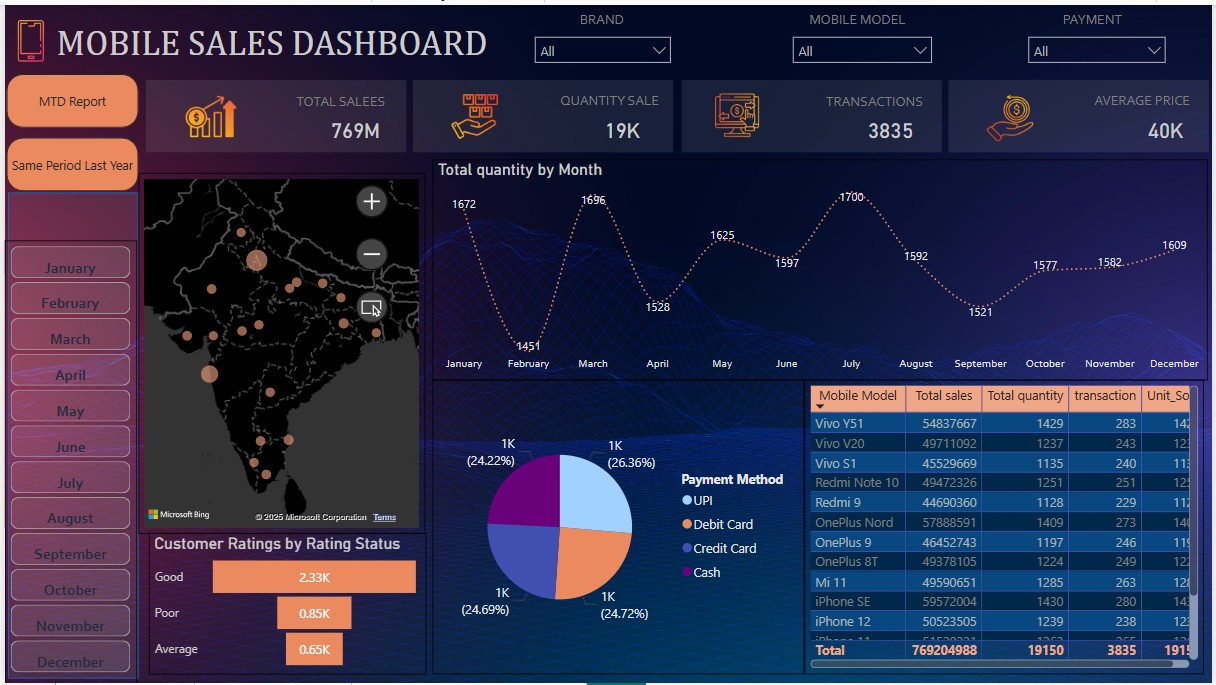

Layout of this report page (visuals, bound fields, positions):
{"tool":"powerbi","page":{"name":"Summary","canvas":[1280,720],"ordinal":0},"visuals":[{"type":"shape","box":[3.2,198.8,138.4,515.4],"z":1000},{"type":"advancedSlicerVisual","fields":{"Values":["Custom_Calendar.Date.Variation.Date Hierarchy.Month"]},"box":[0,249.7,140,470.8],"z":2000},{"type":"textbox","box":[14.3,12.7,537.6,58.9],"z":3000},{"type":"shape","box":[149.9,79,276,77],"z":4000},{"type":"shape","box":[433.4,79,276,77],"z":5000},{"type":"shape","box":[717,79,276,77],"z":6000},{"type":"shape","box":[1000.5,79,276,77],"z":7000},{"type":"card","fields":{"Values":["Sales_Data.Revenue"]},"box":[287.5,101.2,166.2,61.2],"z":8000},{"type":"card","fields":{"Values":["Sales_Data.Total quantity"]},"box":[571.2,101.2,166.2,61.2],"z":9000},{"type":"card","fields":{"Values":["Sales_Data.average price"]},"box":[1180,101.2,100,61.2],"z":10000},{"type":"card","fields":{"Values":["Sales_Data.transaction"]},"box":[855,102.5,166.2,61.2],"z":11000},{"type":"textbox","box":[304.3,87.1,148.6,64.3],"z":12000},{"type":"textbox","box":[865.7,87.1,147.1,62.9],"z":13000},{"type":"textbox","box":[584.3,85.7,124.3,62.9],"z":14000},{"type":"image","box":[186,86,64,64],"z":15000},{"type":"image","box":[445,87.5,105,61.2],"z":16000},{"type":"image","box":[746.2,81.2,60,71.2],"z":17000},{"type":"image","box":[1035,88.3,60,61.7],"z":18000},{"type":"textbox","box":[1150,86,126,62],"z":19000},{"type":"textbox","box":[847.8,0,122.5,30.2],"z":20000},{"type":"textbox","box":[604.4,0,70,30.2],"z":21000},{"type":"slicer","fields":{"Values":["Sales_Data.Mobile Model"]},"box":[825.5,23.9,167,47.7],"z":22000},{"type":"slicer","fields":{"Values":["Sales_Data.Payment Method"]},"box":[1075.3,23.9,165.4,47.7],"z":23000},{"type":"slicer","fields":{"Values":["Sales_Data.Brand"]},"box":[551.9,23.9,163.8,50.9],"z":24000},{"type":"textbox","box":[1116.6,0,82.7,30.2],"z":25000},{"type":"image","box":[0,0,54.1,76.3],"z":26000},{"type":"map","title":"Sales by City","fields":{"Category":["Sales_Data.City"],"Size":["Sales_Data.Total sales"]},"box":[141.8,178.2,303.8,382.8],"z":28000},{"type":"lineChart","fields":{"Category":["Custom_Calendar.Date.Variation.Date Hierarchy.Month","Custom_Calendar.Date.Variation.Date Hierarchy.Day"],"Y":["Sales_Data.Total quantity"]},"box":[454,164,822,234],"z":29000},{"type":"funnel","title":"Customer Ratings by Rating Status","fields":{"Y":["CountNonNull(Sales_Data.Customer Ratings)"],"Category":["Sales_Data.Rating Status"]},"box":[152,560,294,150],"z":30000},{"type":"pieChart","fields":{"Category":["Sales_Data.Payment Method"],"Y":["Sales_Data.transaction"]},"box":[454,398,394,312],"z":31000},{"type":"tableEx","fields":{"Values":["Sales_Data.Mobile Model","Sales_Data.Total sales","Sales_Data.Total quantity","Sales_Data.transaction","Sales_Data.Unit_Sold"]},"box":[848.3,398.3,423.3,311.7],"z":32000},{"type":"pageNavigator","box":[1.7,73.3,140,125],"z":33000}]}

Visuals, with their boxes in screenshot pixels (x1, y1, x2, y2), scaled from the page's 1280x720 canvas onto the 1216x685 screenshot:
shape: bbox=(3, 189, 135, 679)
advancedSlicerVisual - Custom_Calendar.Date.Variation.Date Hierarchy.Month: bbox=(0, 238, 133, 684)
textbox: bbox=(14, 12, 524, 68)
shape: bbox=(142, 75, 405, 148)
shape: bbox=(412, 75, 674, 148)
shape: bbox=(681, 75, 943, 148)
shape: bbox=(950, 75, 1213, 148)
card - Sales_Data.Revenue: bbox=(273, 96, 431, 155)
card - Sales_Data.Total quantity: bbox=(543, 96, 701, 155)
card - Sales_Data.average price: bbox=(1121, 96, 1215, 155)
card - Sales_Data.transaction: bbox=(812, 98, 970, 156)
textbox: bbox=(289, 83, 430, 144)
textbox: bbox=(822, 83, 962, 143)
textbox: bbox=(555, 82, 673, 141)
image: bbox=(177, 82, 238, 143)
image: bbox=(423, 83, 522, 141)
image: bbox=(709, 77, 766, 145)
image: bbox=(983, 84, 1040, 143)
textbox: bbox=(1092, 82, 1212, 141)
textbox: bbox=(805, 0, 922, 29)
textbox: bbox=(574, 0, 641, 29)
slicer - Sales_Data.Mobile Model: bbox=(784, 23, 943, 68)
slicer - Sales_Data.Payment Method: bbox=(1022, 23, 1179, 68)
slicer - Sales_Data.Brand: bbox=(524, 23, 680, 71)
textbox: bbox=(1061, 0, 1139, 29)
image: bbox=(0, 0, 51, 73)
"Sales by City" map: bbox=(135, 170, 423, 534)
lineChart - Custom_Calendar.Date.Variation.Date Hierarchy.Month x Custom_Calendar.Date.Variation.Date Hierarchy.Day: bbox=(431, 156, 1212, 379)
"Customer Ratings by Rating Status" funnel: bbox=(144, 533, 424, 675)
pieChart - Sales_Data.Payment Method x Sales_Data.transaction: bbox=(431, 379, 806, 675)
tableEx - Sales_Data.Mobile Model x Sales_Data.Total sales: bbox=(806, 379, 1208, 675)
pageNavigator: bbox=(2, 70, 135, 189)
